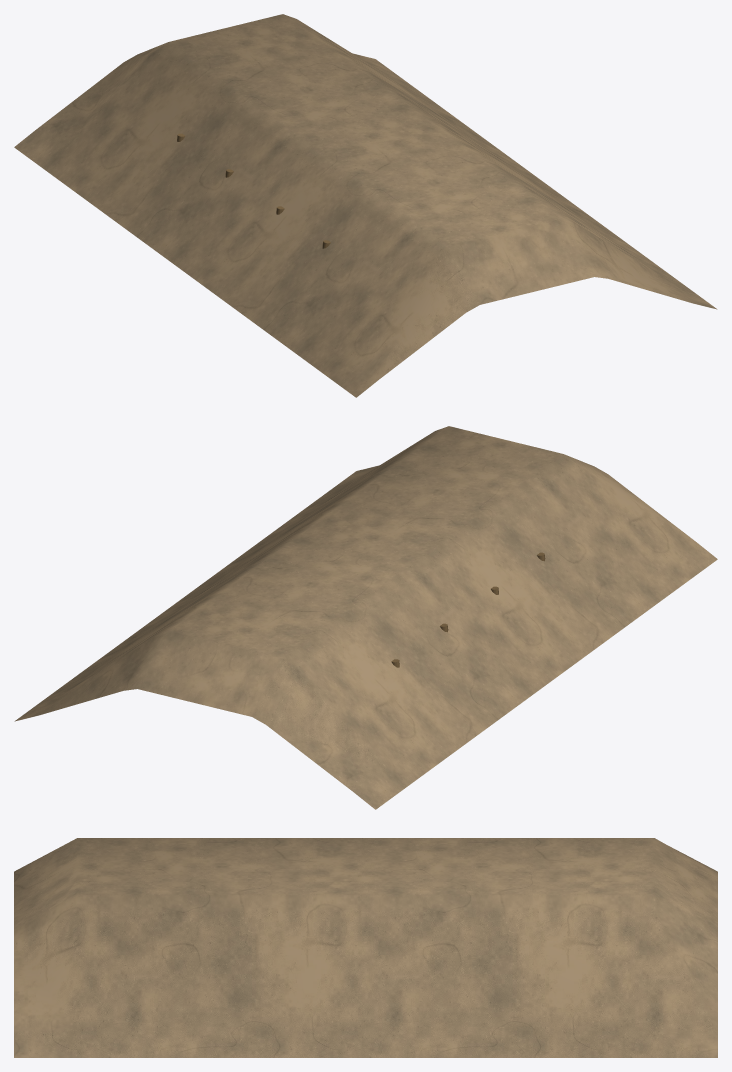
Rendered from levee.glb.
3 renders of one model, top to bottom at view 1: azimuth 30°, elevation 25°; view 2: azimuth 150°, elevation 25°; view 3: azimuth 270°, elevation 25°, orthographic. The views are drawn at different scales.
Visible parts, largest first — view 1: original-levee-alluvial-earth; view 2: original-levee-alluvial-earth; view 3: original-levee-alluvial-earth.
Boxes of the visible parts, x1,y1,x2,y2 form: original-levee-alluvial-earth: (14, 14, 717, 397); original-levee-alluvial-earth: (14, 426, 717, 809); original-levee-alluvial-earth: (14, 838, 717, 1057).
Size of the model in its own units: 3.66 by 0.945 by 6.
3 materials, 3 textured.
